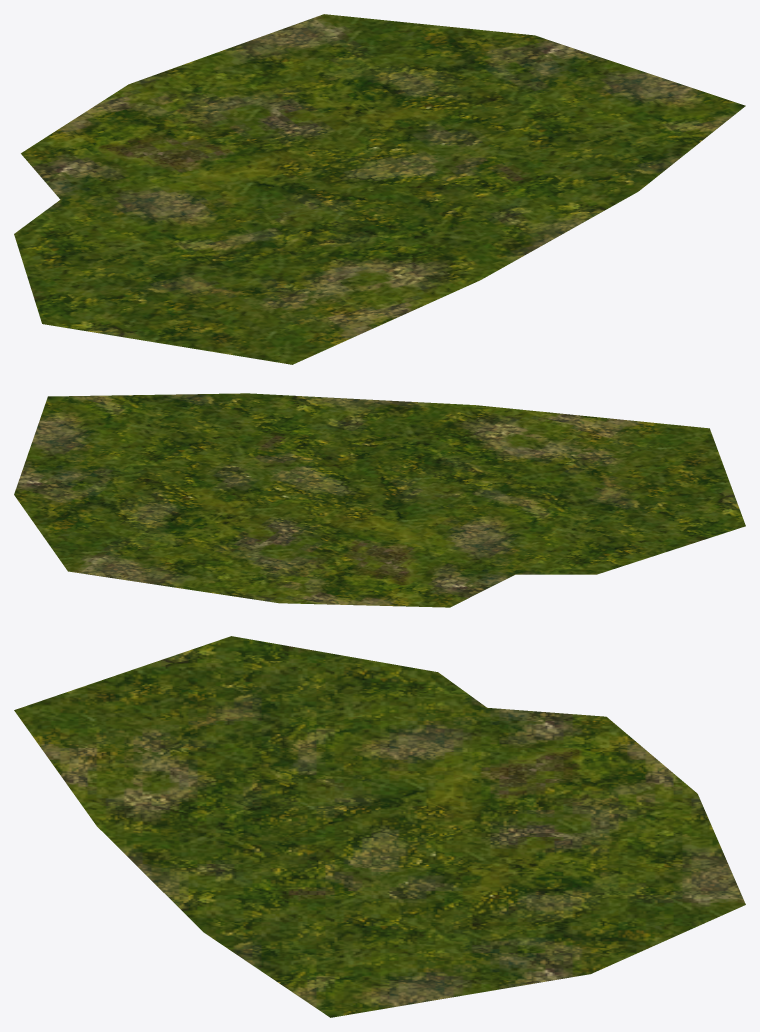
Rendered from OVERHILL_A_01_OBJECT28.fbx.
3 views of the same model, one above another, from view 1: azimuth 30°, elevation 25°; view 2: azimuth 150°, elevation 25°; view 3: azimuth 270°, elevation 25° (orthographic). The views are drawn at different scales.
Visible parts, largest first — view 1: OVERHILL_A_01_OBJECT28; view 2: OVERHILL_A_01_OBJECT28; view 3: OVERHILL_A_01_OBJECT28.
Part boxes in pixels (bbox=[...]): OVERHILL_A_01_OBJECT28: bbox=[14, 14, 745, 364]; OVERHILL_A_01_OBJECT28: bbox=[14, 393, 745, 607]; OVERHILL_A_01_OBJECT28: bbox=[14, 636, 745, 1017].
Bounding box in the file's own units: 30853 × 0.00407 × 24998.
Materials: 1 (1 with a texture image).
